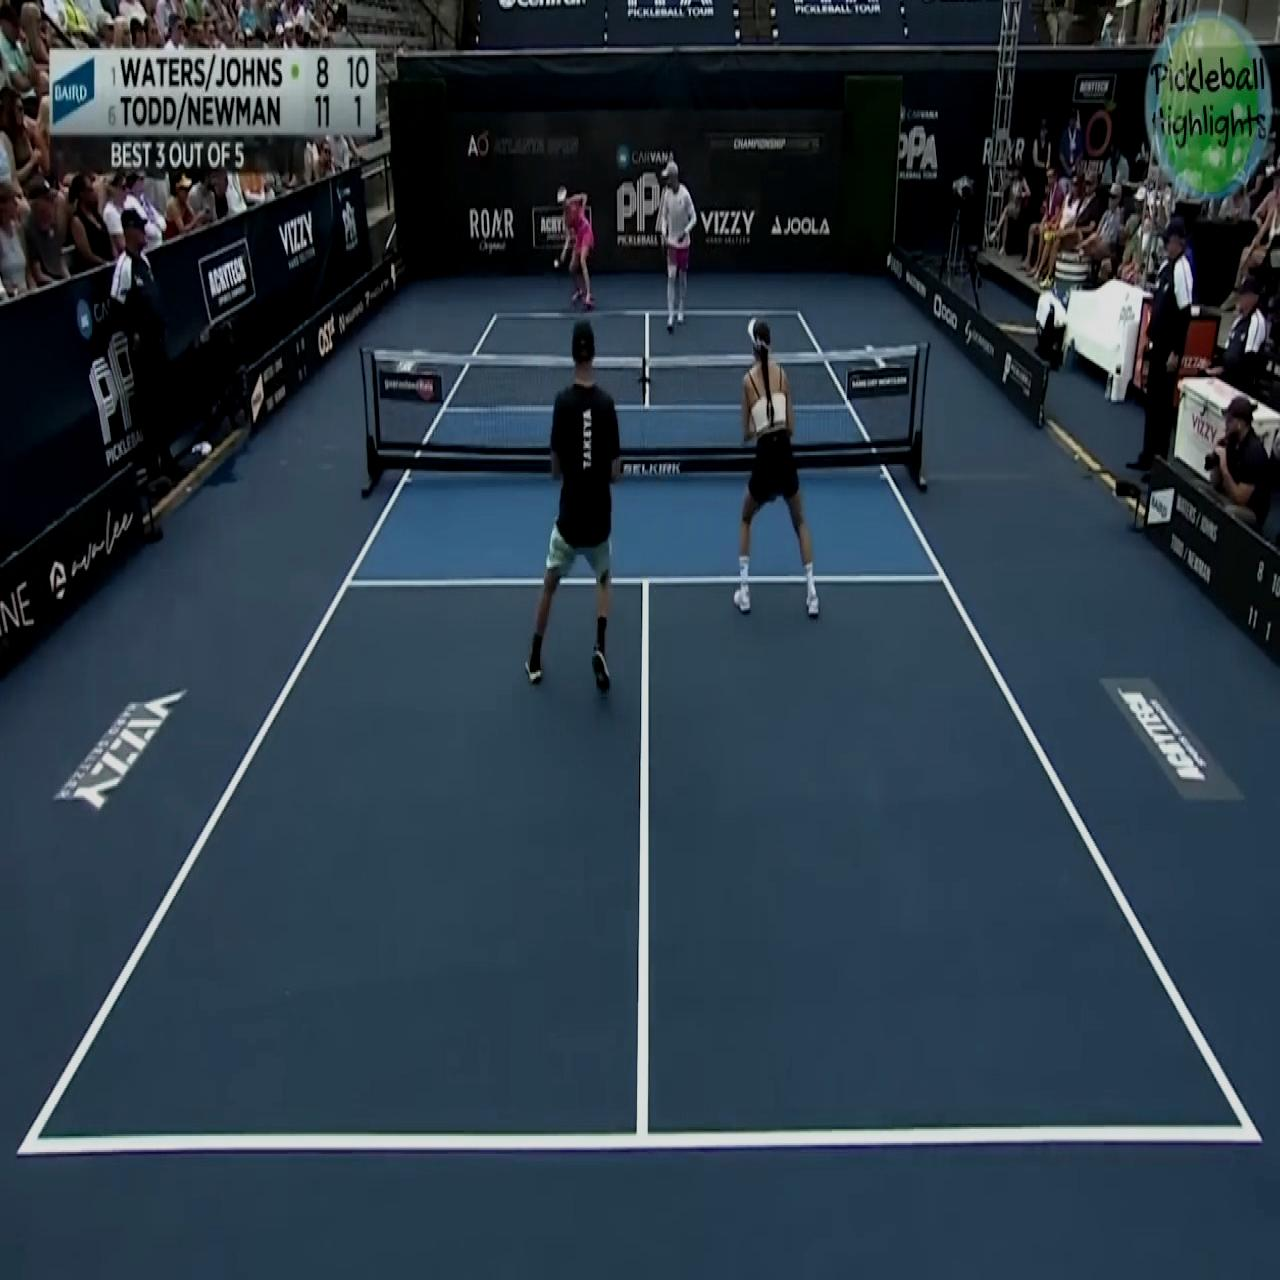Pickleball: (554, 256, 560, 272)
